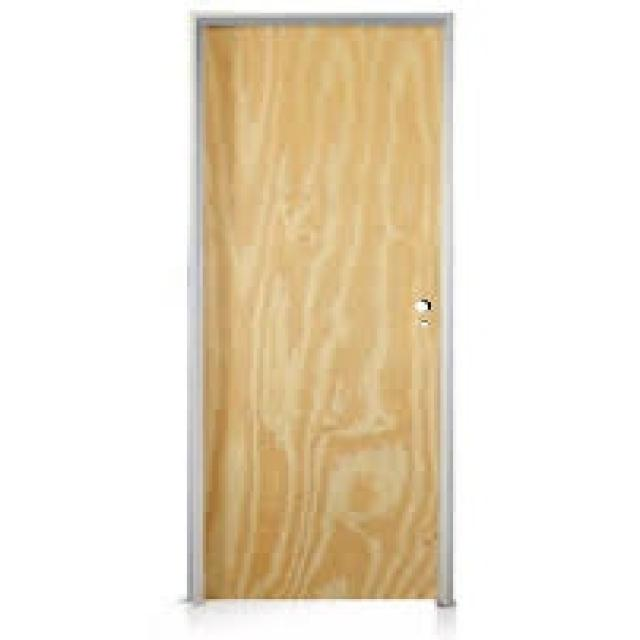door: (188, 12, 454, 606)
